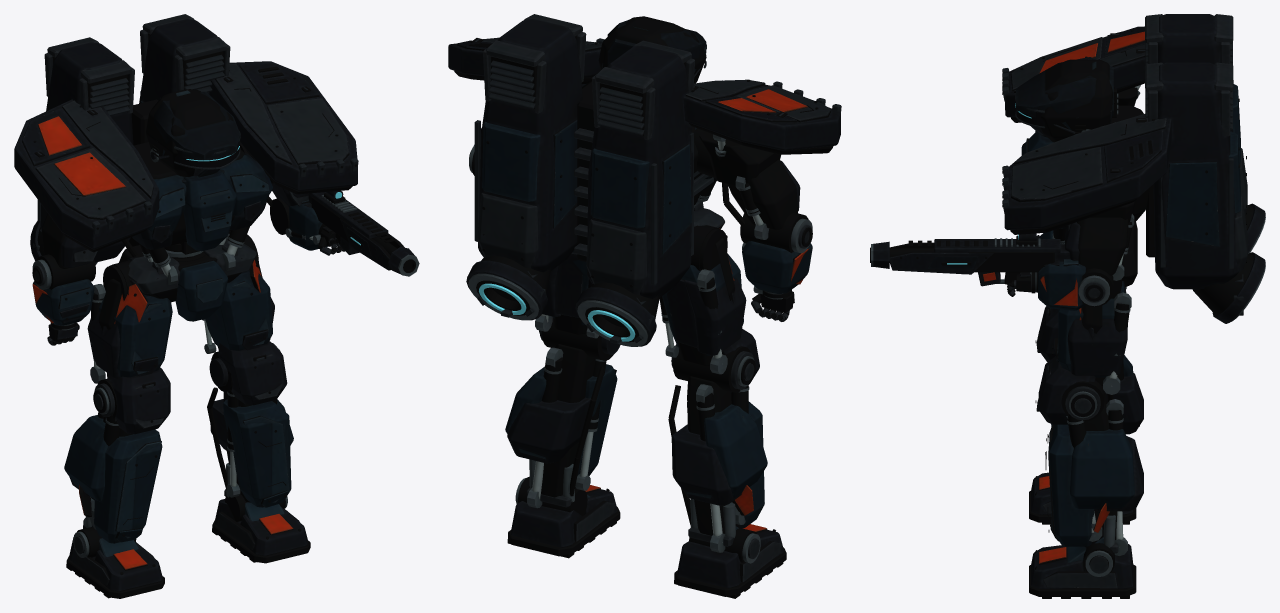
Rendered from m07-cangyan-v8.glb.
3 renders of one model, left to right at view 1: azimuth 30°, elevation 25°; view 2: azimuth 150°, elevation 25°; view 3: azimuth 270°, elevation 25°, orthographic. The views are drawn at different scales.
Parts seen in each view (by area): view 1: M07_Upper_armor, M07_Shin_L_armor, M07_Shin_R_armor, M07_Body_armor, M07_Thigh_L_armor, M07_Rifle_armor, M07_Foot_L_armor, M07_Foot_R_armor, M07_Thigh_R_armor; view 2: M07_Upper_armor, M07_Shin_L_armor, M07_Shin_R_armor, M07_Thigh_L_armor, M07_Foot_R_armor, M07_Foot_L_armor, M07_Thigh_R_armor, M07_Body_armor, M07_Upper_optics; view 3: M07_Upper_armor, M07_Shin_R_armor, M07_Rifle_armor, M07_Foot_R_armor, M07_Thigh_R_armor, M07_Shin_L_armor, M07_Body_armor, M07_Foot_L_armor.
Boxes of the visible parts, x1,y1,x2,y2 form: M07_Upper_armor: (14, 14, 358, 345); M07_Shin_L_armor: (64, 367, 170, 543); M07_Shin_R_armor: (207, 341, 293, 507); M07_Body_armor: (98, 236, 262, 341); M07_Thigh_L_armor: (87, 265, 172, 383); M07_Rifle_armor: (285, 191, 419, 276); M07_Foot_L_armor: (66, 525, 164, 598); M07_Foot_R_armor: (212, 494, 310, 563); M07_Thigh_R_armor: (202, 234, 274, 353); M07_Upper_armor: (448, 14, 841, 346); M07_Shin_L_armor: (668, 328, 767, 552); M07_Shin_R_armor: (505, 317, 620, 508); M07_Thigh_L_armor: (659, 228, 746, 374); M07_Foot_R_armor: (507, 476, 620, 558); M07_Foot_L_armor: (674, 524, 786, 598); M07_Thigh_R_armor: (535, 250, 598, 338); M07_Body_armor: (691, 208, 735, 310); M07_Upper_optics: (479, 283, 635, 341); M07_Upper_armor: (1002, 14, 1265, 323); M07_Shin_R_armor: (1035, 356, 1143, 555); M07_Rifle_armor: (870, 233, 1085, 310); M07_Foot_R_armor: (1029, 537, 1136, 598); M07_Thigh_R_armor: (1052, 280, 1131, 394); M07_Shin_L_armor: (1035, 306, 1143, 443); M07_Body_armor: (1037, 222, 1137, 345); M07_Foot_L_armor: (1029, 472, 1136, 524).
Bounding box in the file's own units: 11 × 17.11 × 12.27.
2 materials, 1 textured.
